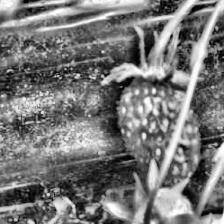Gray Mold: (99, 26, 205, 97)
